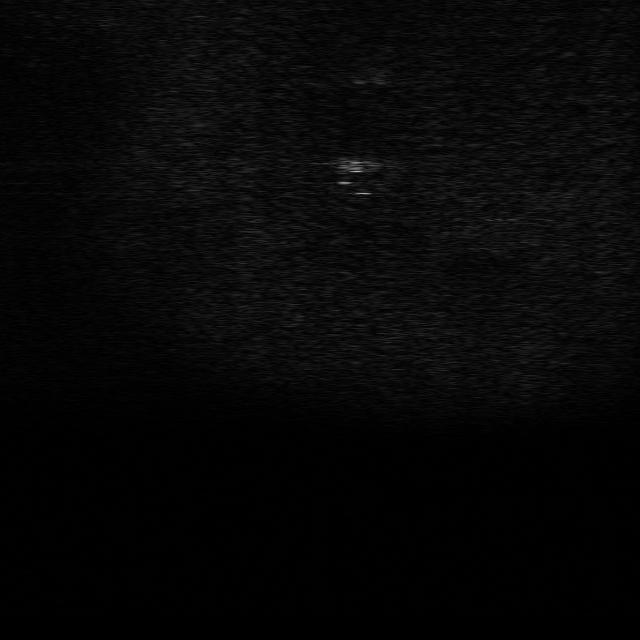plane: (325, 153, 385, 178)
